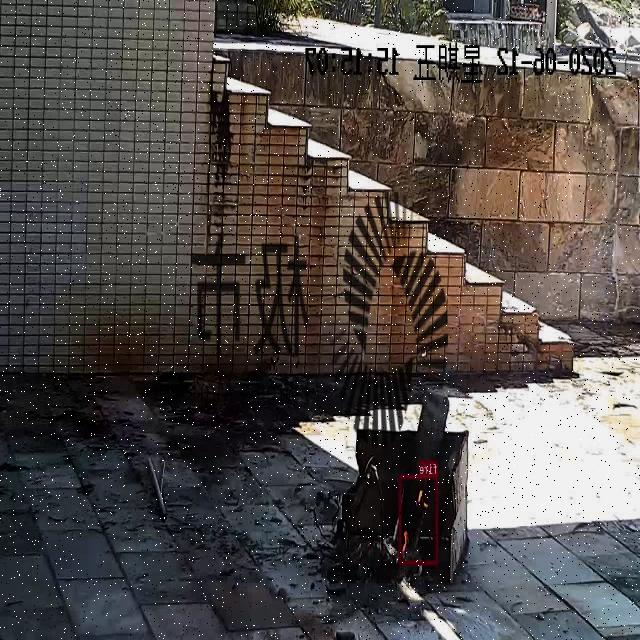fire: (400, 474, 438, 564)
